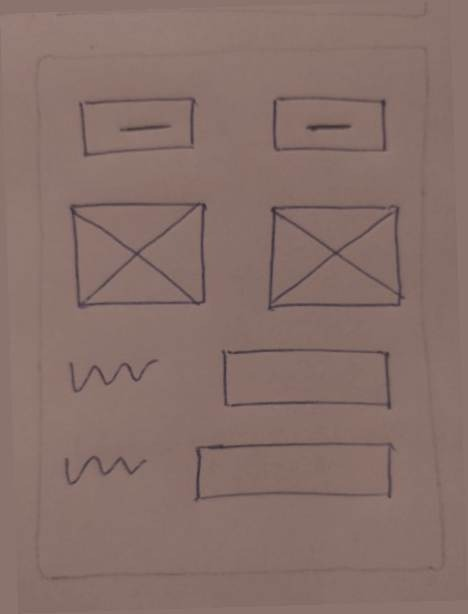button: (262, 81, 395, 170), (71, 87, 203, 171)
image: (62, 196, 216, 317), (253, 197, 407, 318)
text: (52, 445, 159, 499), (58, 347, 165, 400)
text_input: (184, 429, 407, 510), (211, 339, 400, 418)
